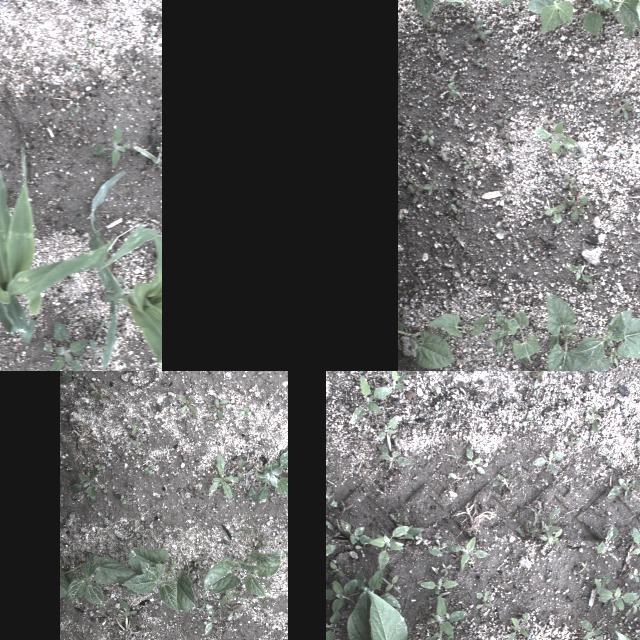crop: (0, 28, 117, 340), (86, 169, 162, 371), (326, 588, 447, 640), (120, 546, 196, 614), (557, 309, 640, 371), (202, 550, 282, 606), (62, 554, 134, 610), (547, 292, 583, 371), (398, 321, 454, 369), (249, 447, 288, 504), (504, 311, 540, 364), (570, 0, 640, 26), (426, 314, 489, 336), (539, 0, 576, 34), (478, 0, 556, 13)
weed: (43, 319, 96, 371), (368, 525, 414, 569), (209, 452, 249, 500), (427, 594, 467, 640), (91, 126, 131, 170), (398, 0, 474, 23), (354, 568, 400, 606), (522, 508, 562, 550), (347, 376, 381, 424), (445, 536, 489, 572), (584, 0, 624, 35), (535, 121, 579, 152), (598, 586, 638, 616), (198, 599, 224, 639), (490, 310, 512, 356), (327, 580, 358, 612), (376, 444, 414, 470), (70, 471, 100, 502), (374, 371, 408, 398), (340, 520, 376, 544), (205, 396, 232, 426), (492, 472, 520, 500), (530, 451, 564, 474), (116, 595, 140, 627), (607, 478, 640, 501), (173, 390, 199, 418), (567, 192, 589, 222), (136, 142, 162, 166), (508, 613, 530, 640), (465, 446, 485, 474), (598, 525, 618, 553), (375, 416, 399, 438), (564, 262, 590, 282), (613, 96, 633, 120), (579, 621, 602, 640), (586, 402, 600, 432), (230, 522, 253, 540), (418, 578, 459, 588), (381, 574, 401, 594), (87, 382, 105, 404), (187, 478, 203, 502), (629, 527, 640, 561), (544, 206, 564, 224), (128, 419, 146, 439), (226, 603, 246, 621), (326, 610, 338, 640), (422, 174, 438, 196), (471, 17, 485, 41), (82, 30, 100, 48), (251, 532, 269, 550), (144, 458, 160, 477), (126, 439, 146, 453), (118, 488, 132, 508), (420, 130, 434, 148), (92, 459, 110, 473), (502, 132, 514, 152), (531, 371, 544, 389), (628, 594, 640, 613), (241, 408, 257, 422), (566, 437, 582, 451), (330, 561, 344, 577), (469, 30, 491, 40), (440, 90, 462, 100), (564, 172, 576, 190), (571, 185, 583, 203), (476, 590, 494, 602), (476, 600, 494, 612), (496, 112, 510, 126), (412, 186, 422, 204), (412, 283, 426, 295), (628, 568, 640, 582), (448, 82, 458, 98), (543, 117, 553, 133), (450, 204, 460, 220), (472, 56, 484, 68), (464, 157, 476, 169), (400, 172, 412, 184), (68, 108, 82, 118), (451, 191, 459, 207), (623, 26, 633, 38), (556, 146, 568, 156), (574, 151, 584, 163), (440, 330, 452, 340), (132, 528, 142, 540), (407, 184, 418, 194), (73, 63, 83, 73), (146, 30, 156, 40), (449, 73, 457, 85), (592, 155, 604, 163), (438, 2, 452, 8), (116, 82, 126, 90), (520, 355, 528, 365), (600, 212, 608, 220), (587, 283, 595, 291), (525, 367, 541, 371), (526, 238, 532, 248), (637, 430, 640, 446), (631, 28, 635, 38), (412, 156, 418, 162), (621, 151, 629, 155)
